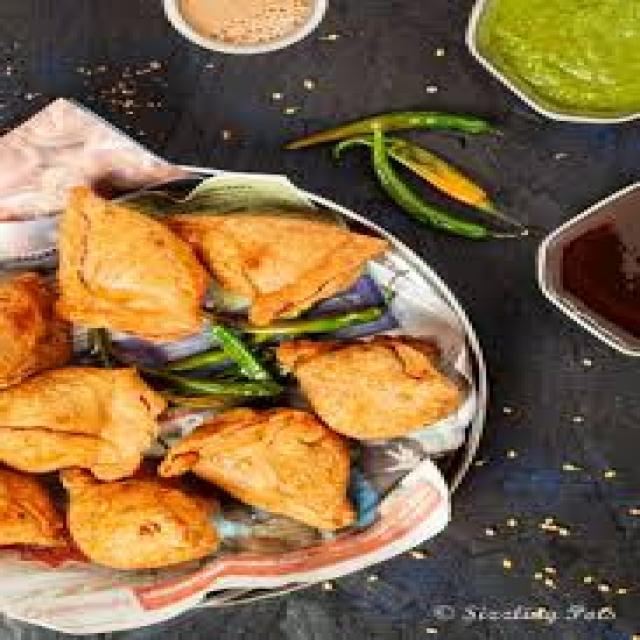SAMOSA: (49, 177, 222, 356), (170, 207, 396, 340), (161, 407, 378, 543), (256, 328, 482, 448), (47, 460, 245, 577), (0, 363, 169, 483), (3, 368, 171, 479)
